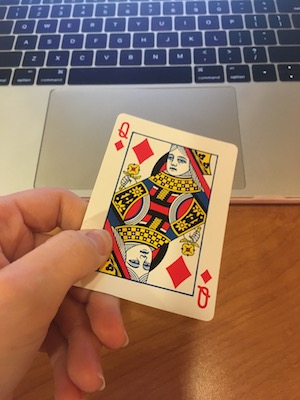QueenOfDiamonds: (60, 107, 242, 329)
